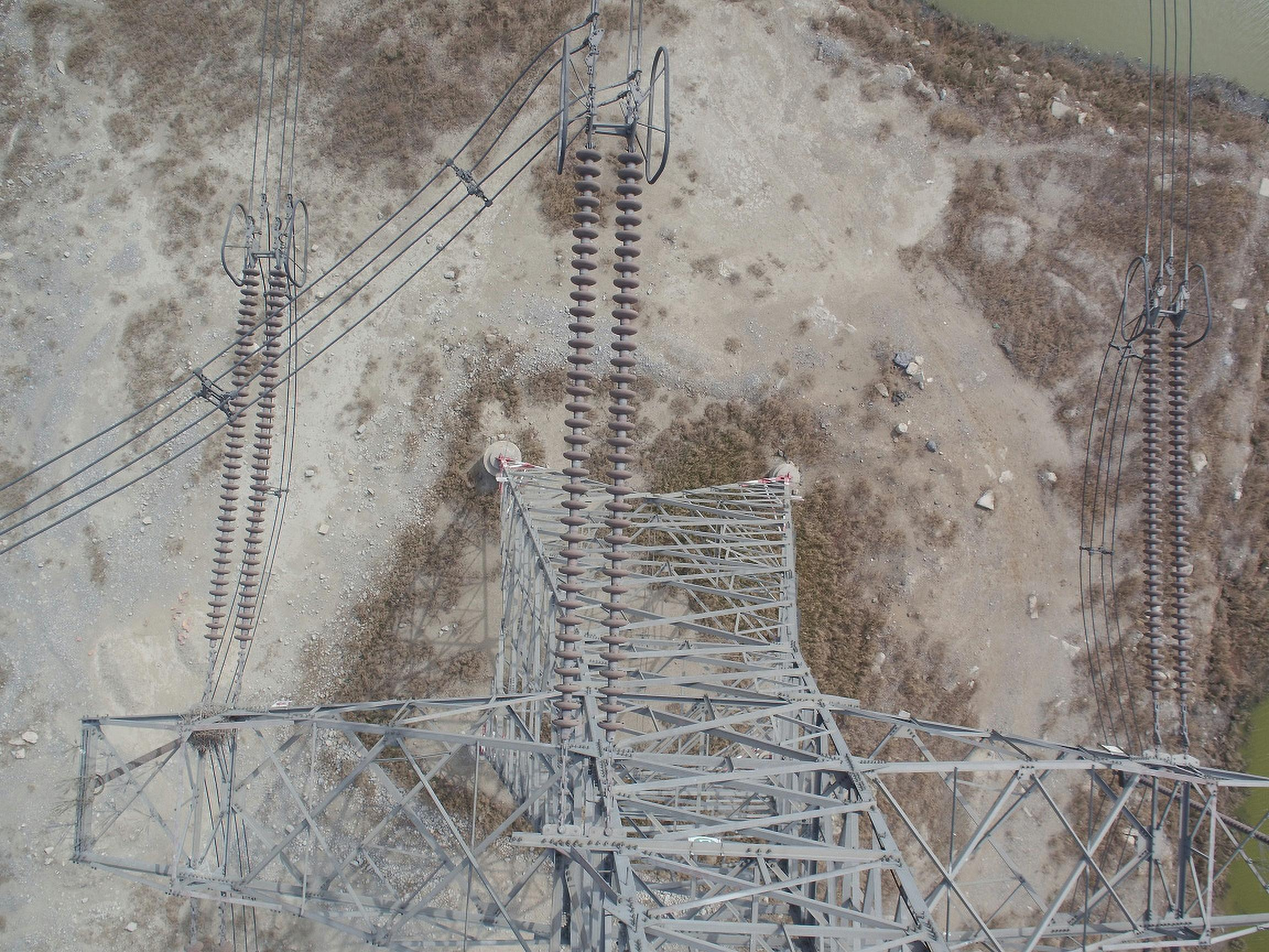insulator: (547, 144, 644, 736), (200, 265, 290, 648), (1135, 321, 1198, 701)
